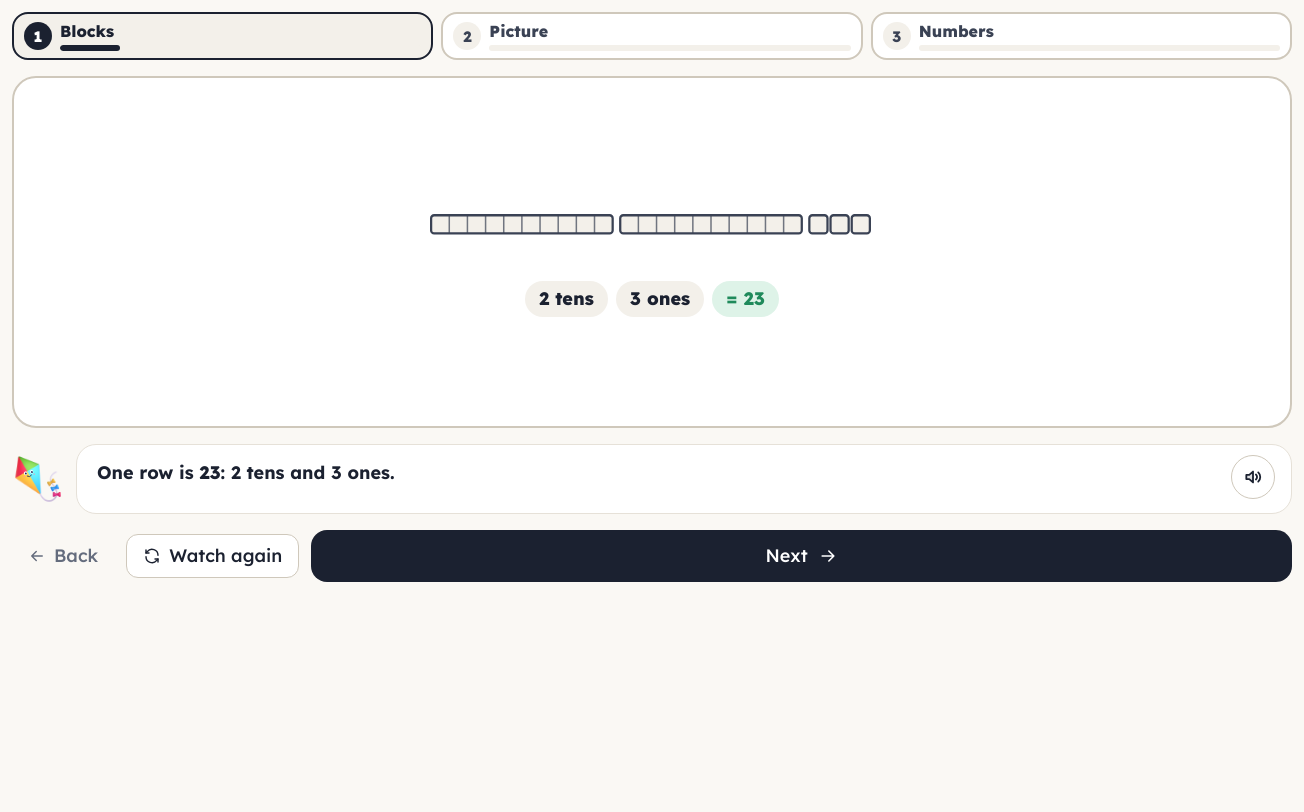
long multiplication stage (ANIM-001 v2) › lets the child cut the picture with the scissors, and nudges a wrong cut
The width and height of the screenshot is (1304, 812).
Click the button "2 Picture": (519, 31) [441, 12, 863, 60]
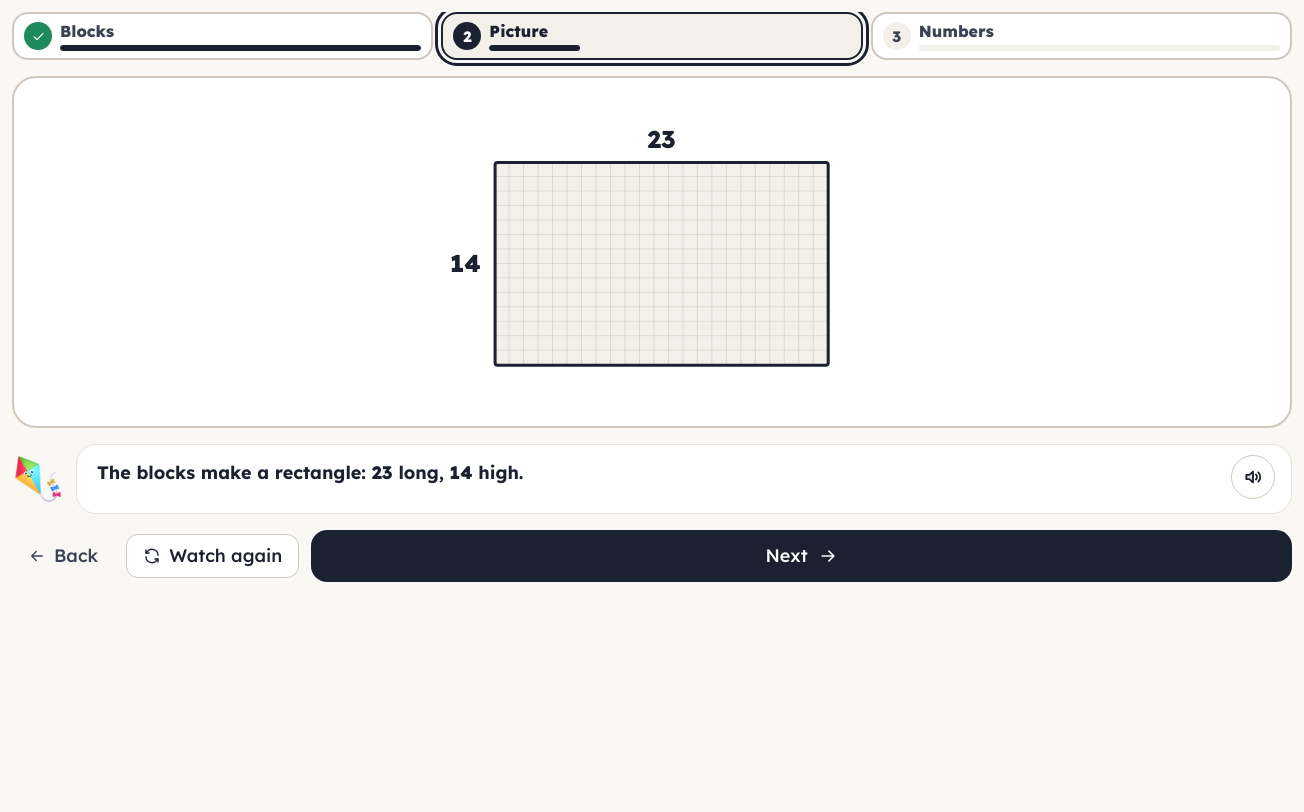
Expected: the element showing "The blocks make a rectangle: 23 long, 14 high." is shown, [97, 461, 524, 484]
Click the button "Next": (802, 556) [311, 530, 1292, 582]
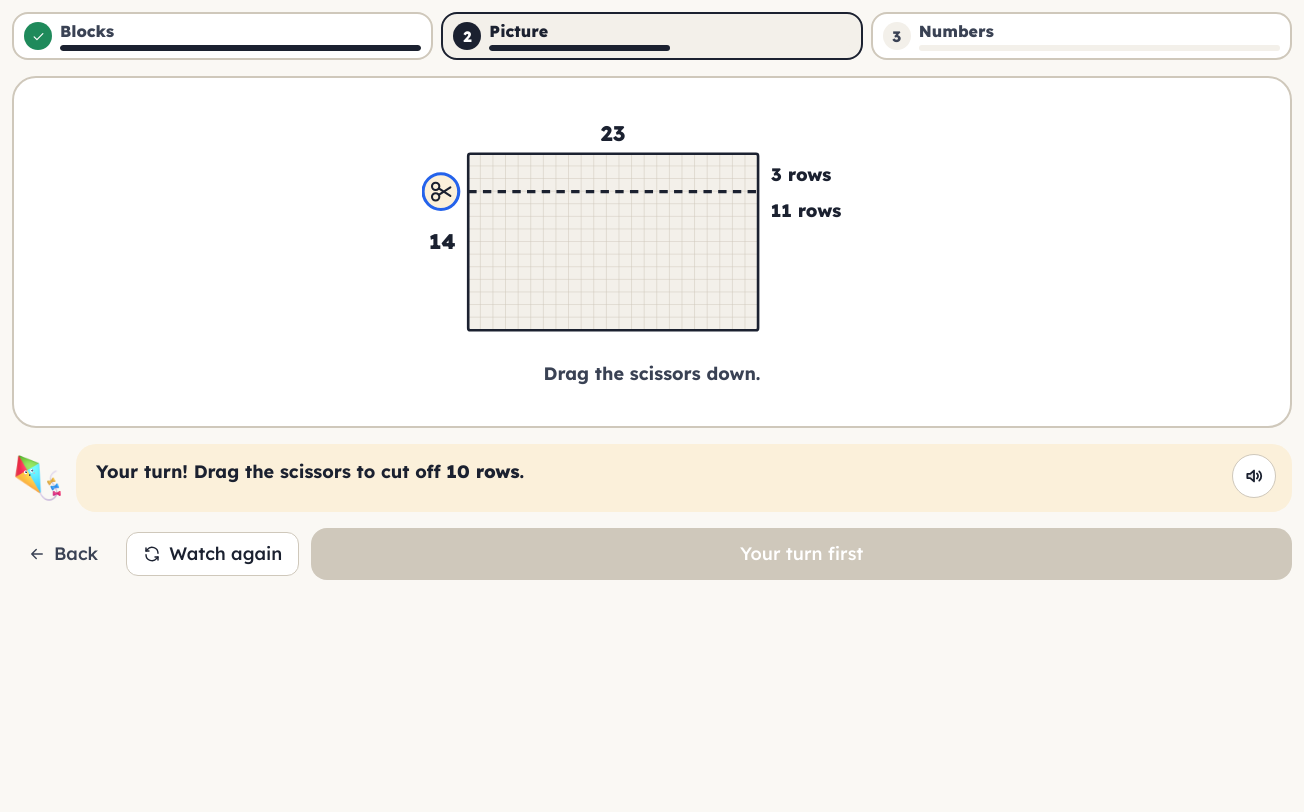
Press Arrowdown Arrowdown Enter
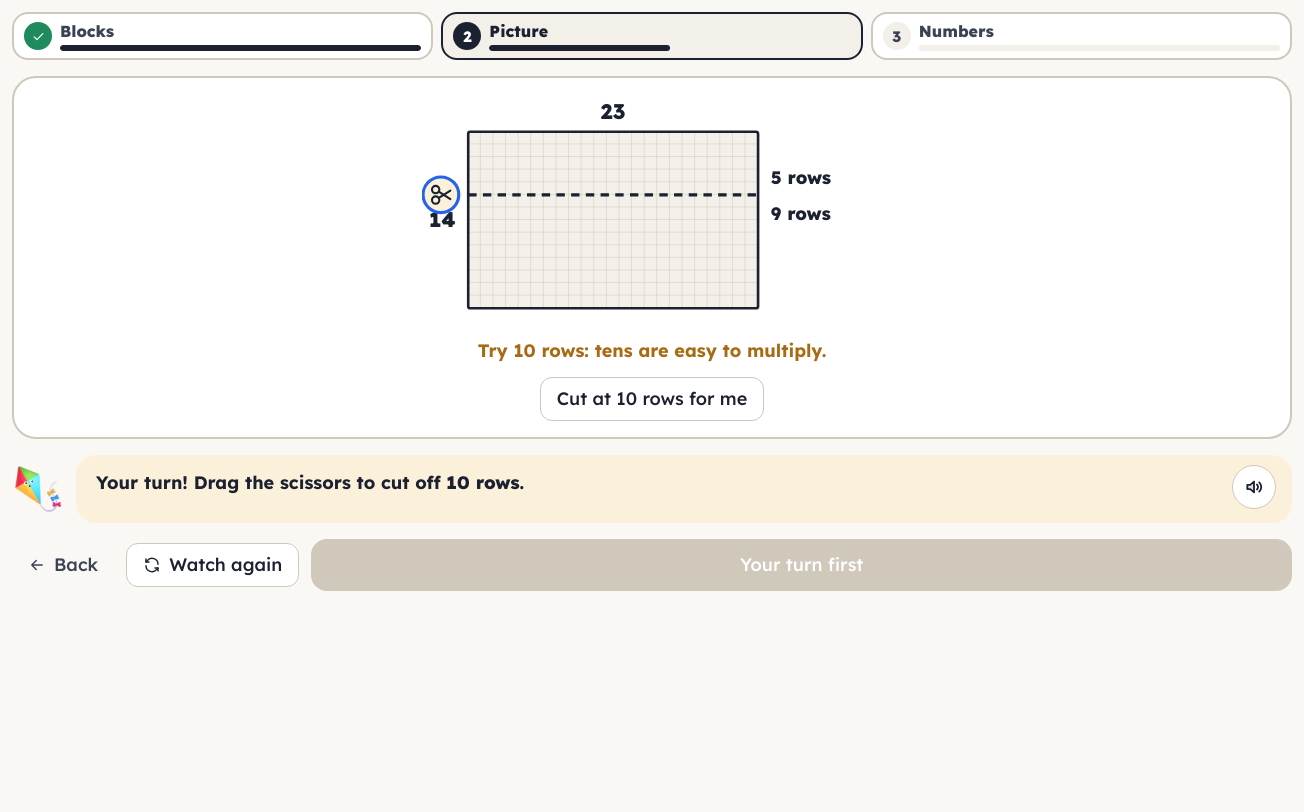
Expected: the button "Your turn first" is disabled, [311, 539, 1292, 591]
Expected: the text "Try 10 rows: tens are easy to multiply." is shown, [478, 337, 826, 365]
Press Arrowdown Arrowdown Arrowdown {ArrowD
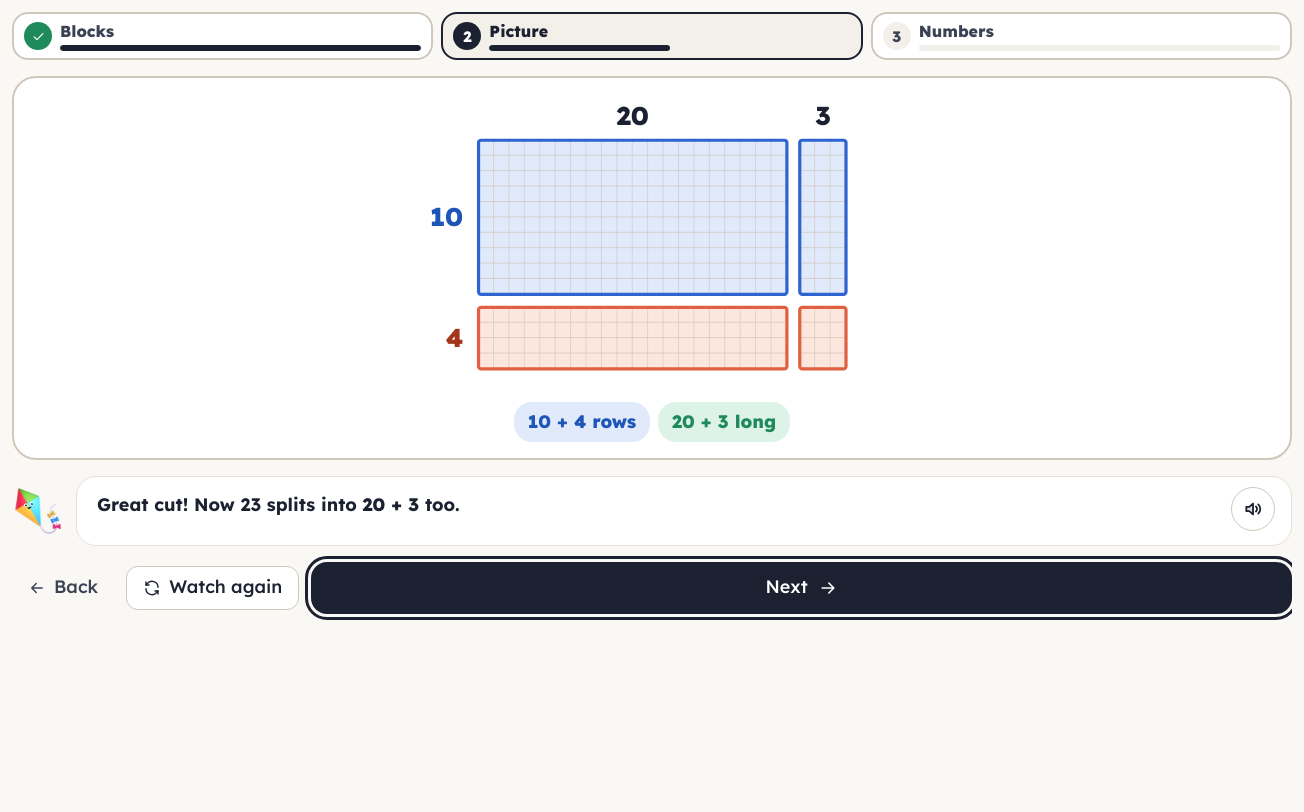
Expected: the element showing "Great cut! Now 23 splits into 20 + 3 too." is shown, [97, 492, 460, 516]
Click the button "Next": (802, 588) [311, 562, 1292, 614]
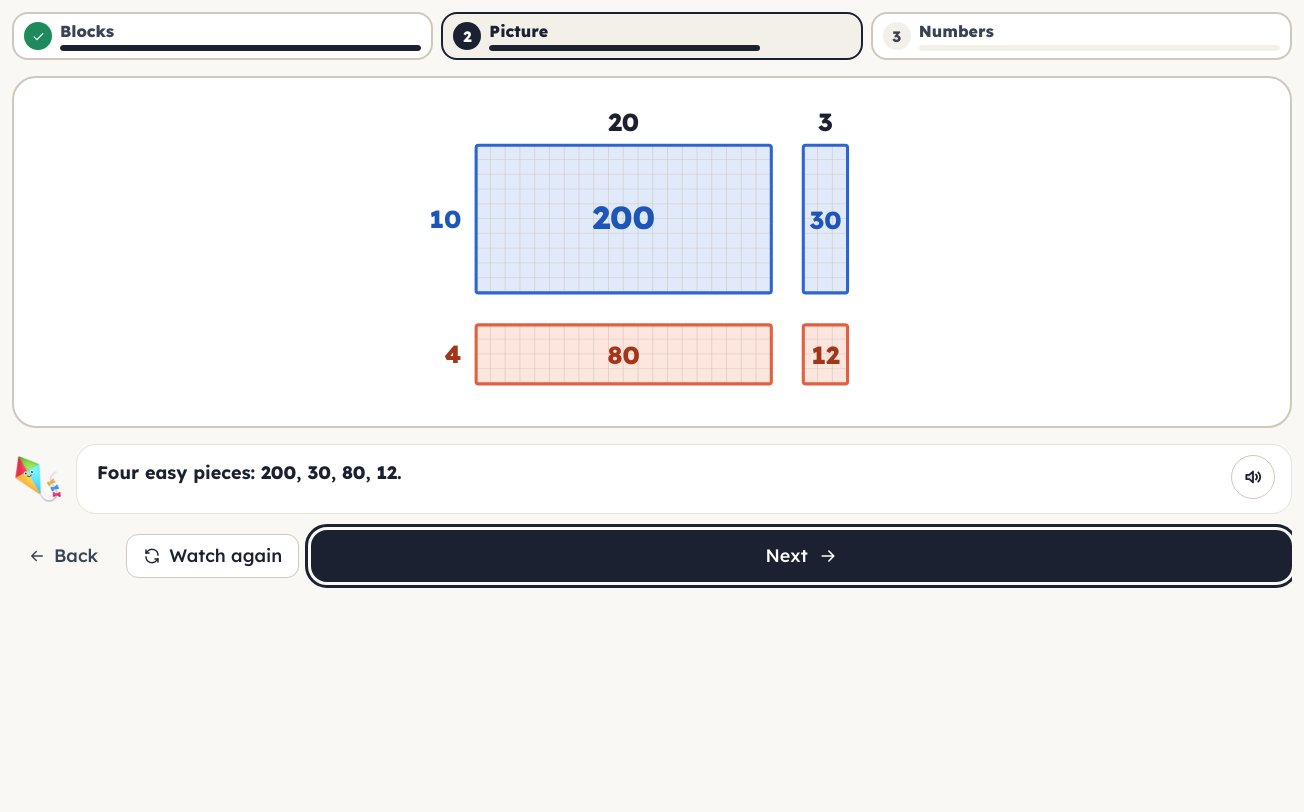
Expected: the element showing "Four easy pieces: 200, 30, 80, 12." is shown, [97, 461, 402, 484]
